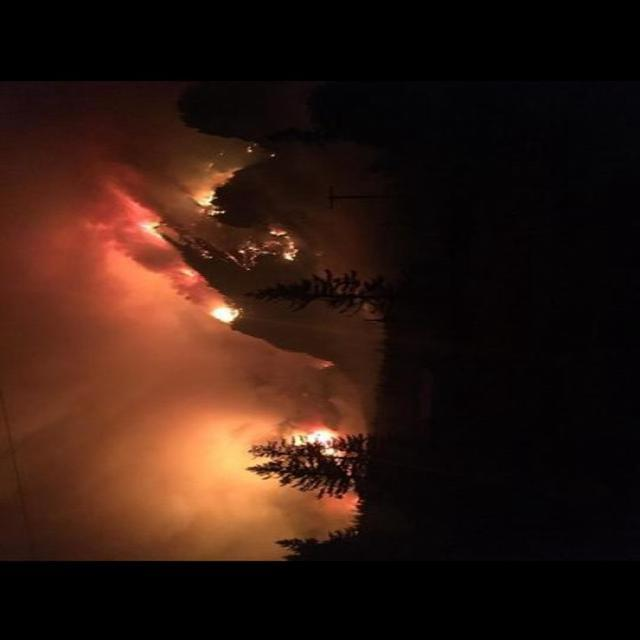Fire: (102, 172, 293, 324), (269, 424, 352, 472)
